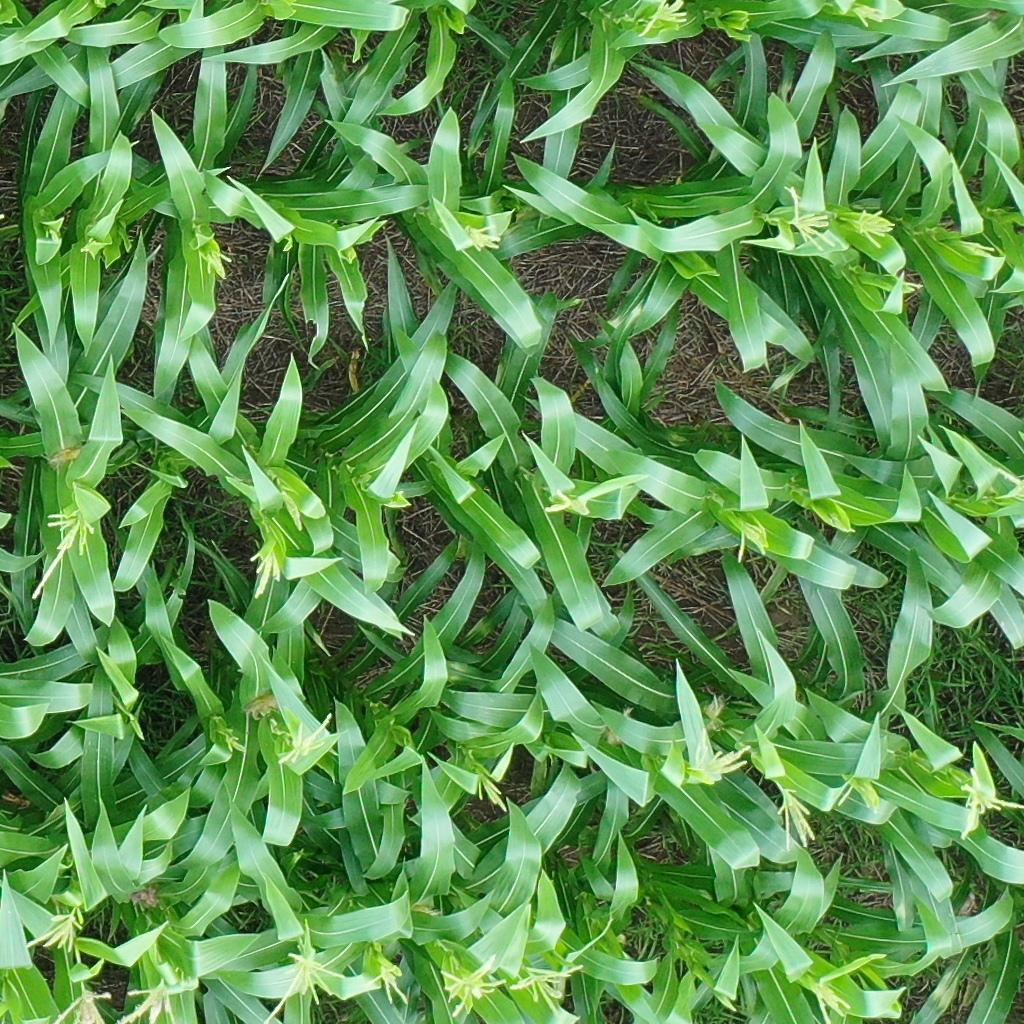Tassel: (262, 950, 345, 1024), (31, 512, 95, 600), (955, 764, 1024, 838), (436, 955, 505, 1017), (684, 728, 755, 783), (117, 982, 201, 1024), (786, 188, 838, 254), (275, 709, 332, 767), (509, 962, 586, 1003), (775, 780, 818, 853), (23, 912, 83, 953), (50, 988, 113, 1024), (246, 549, 284, 603), (808, 980, 853, 1024), (852, 207, 895, 253), (637, 1, 690, 38), (365, 963, 409, 1005), (837, 777, 884, 815), (736, 519, 770, 563), (275, 483, 304, 533), (475, 774, 509, 813), (541, 488, 583, 517), (465, 224, 504, 254), (205, 249, 237, 282), (848, 2, 886, 29), (996, 465, 1024, 500), (956, 237, 996, 260), (223, 734, 247, 754), (897, 280, 928, 294), (42, 226, 62, 245)
